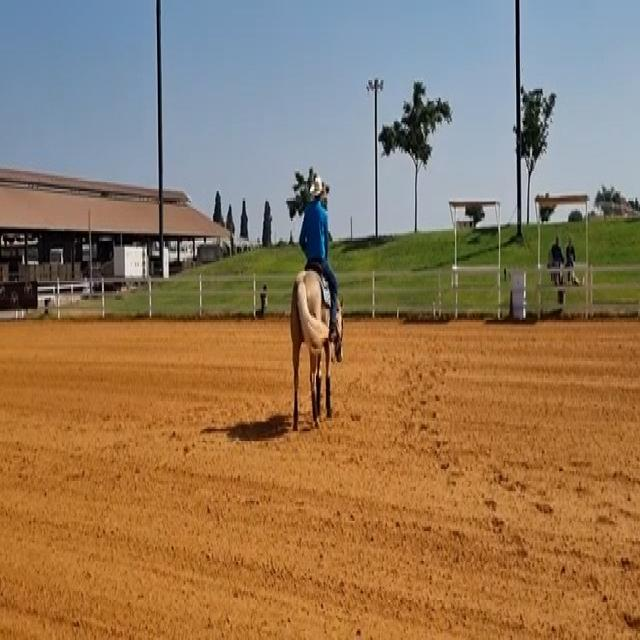horse: (288, 262, 344, 431)
